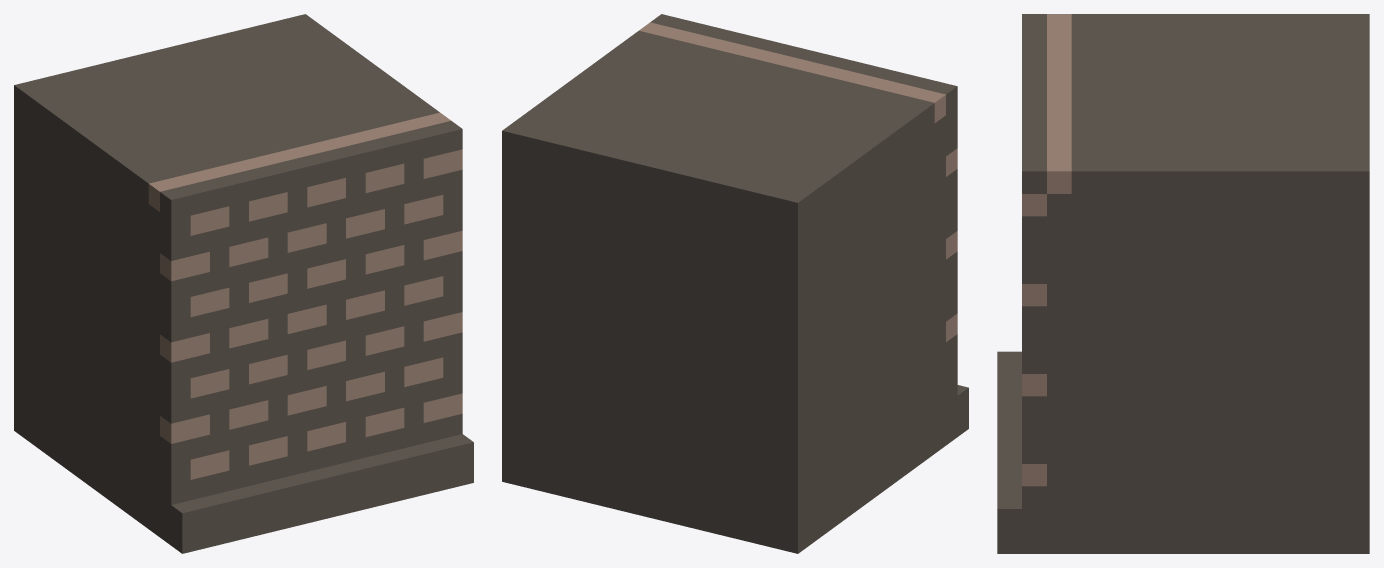
Rendered from dungeon_a_a_outer_wall_segment_a.obj.
The picture shows the model from 3 angles, left to right: view 1: azimuth 30°, elevation 25°; view 2: azimuth 150°, elevation 25°; view 3: azimuth 270°, elevation 25°; orthographic projection. The views are drawn at different scales.
Size of the model in its own units: 1.5 by 1.7 by 1.5.
Materials: 1 (1 with a texture image).
